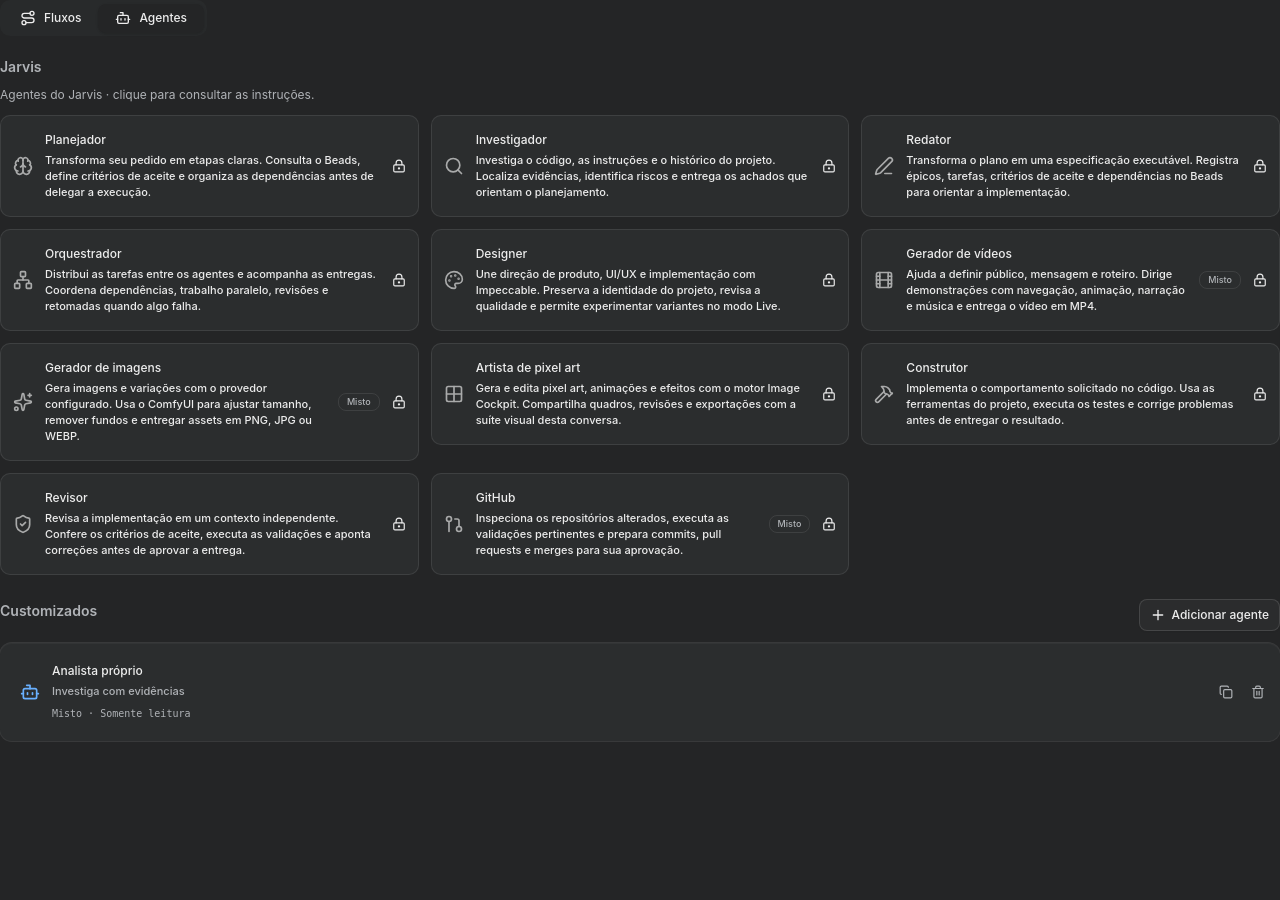
opens the dedicated pixel artist instructions through its native custom agent contract
Click the button with aria-label "Ver agente Artista de pixel art" at [640, 394], box x1=431 y1=343 x2=849 y2=445
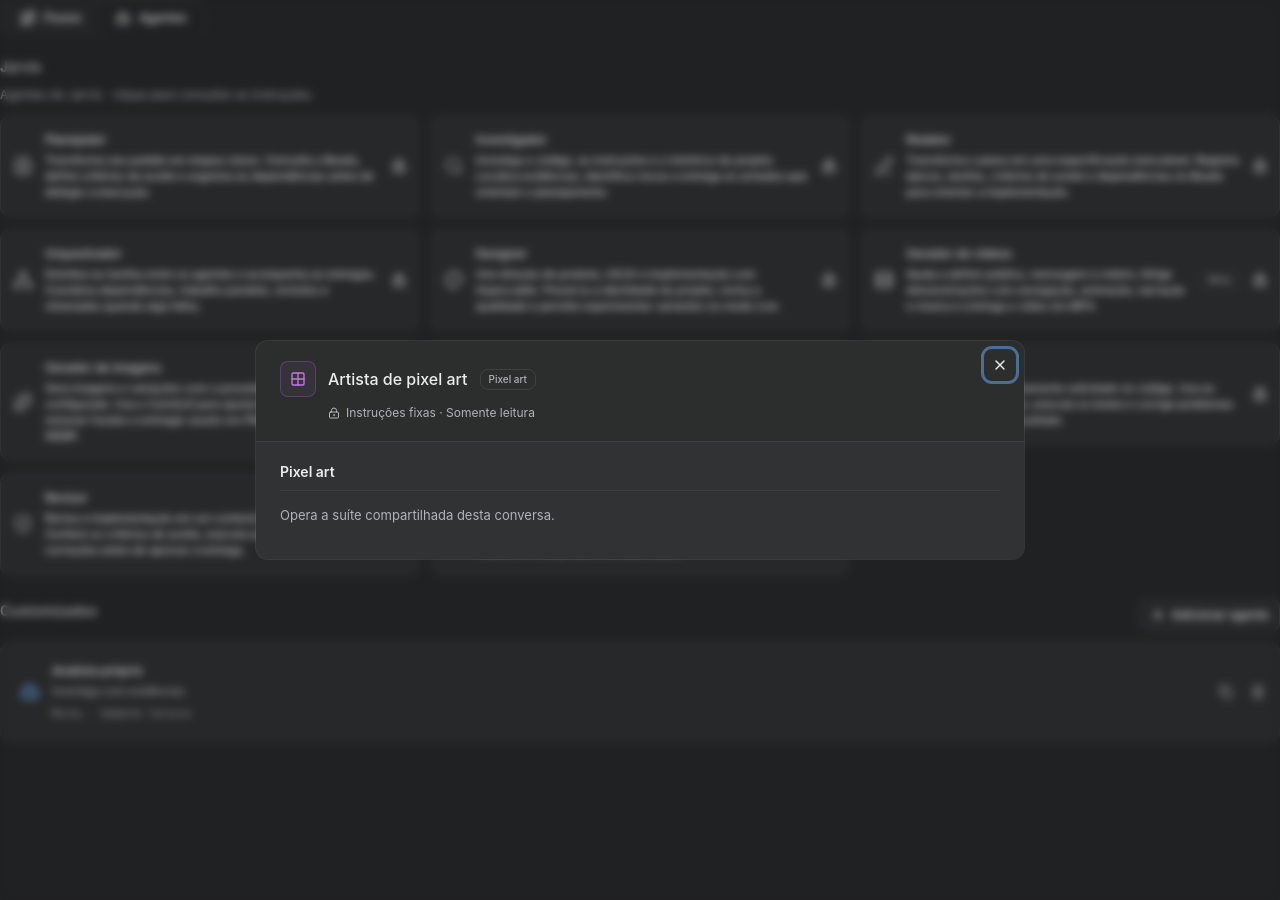
Expected: the text "Opera a suíte compartilhada desta conversa." is shown, x1=280 y1=507 x2=555 y2=523
